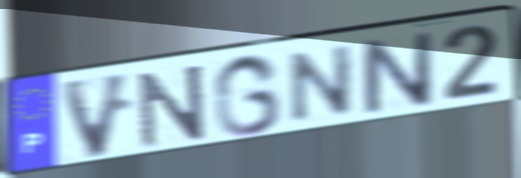2: (440, 23, 504, 105)
G: (211, 51, 284, 138)
N: (357, 29, 438, 118), (135, 61, 209, 151), (287, 41, 357, 127)
V: (56, 69, 136, 162)
